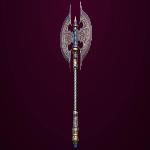Kapak: (55, 2, 95, 150)
